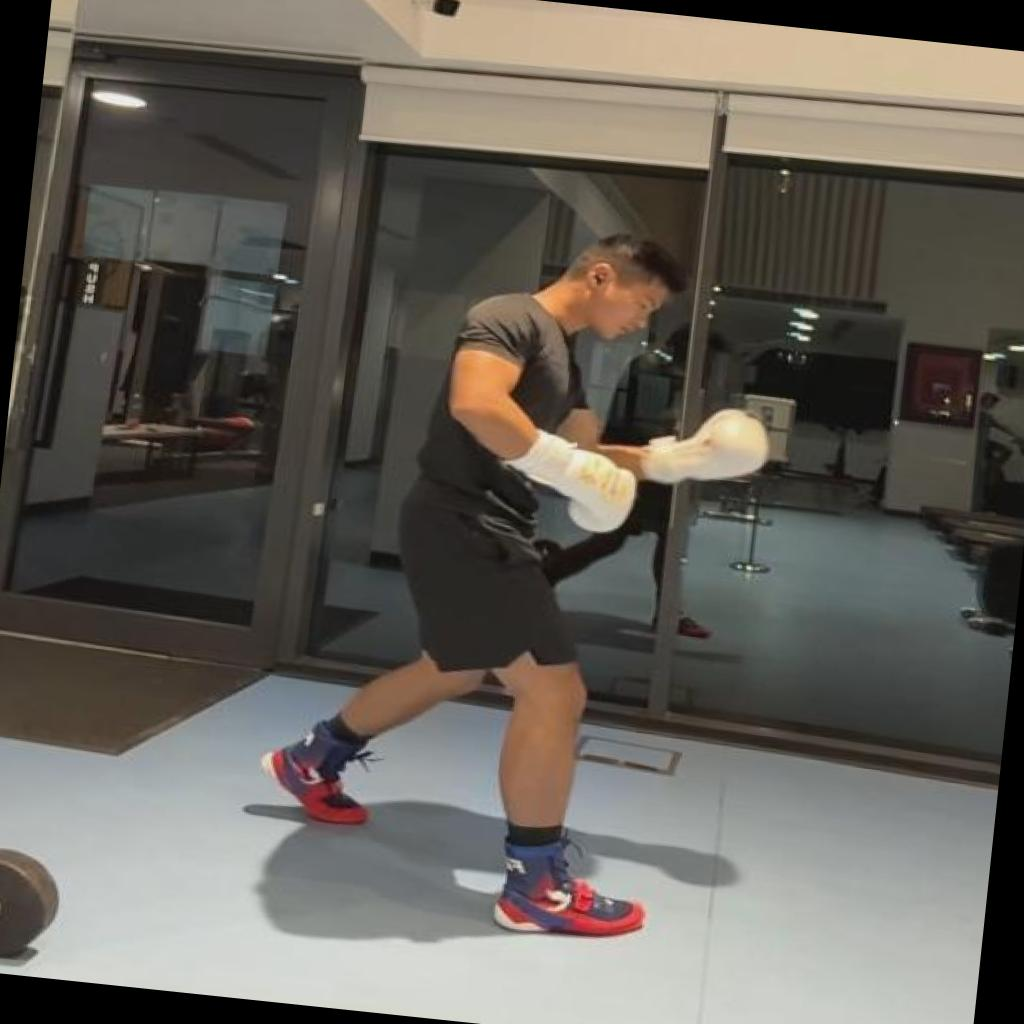uppercut: (240, 192, 798, 959)
